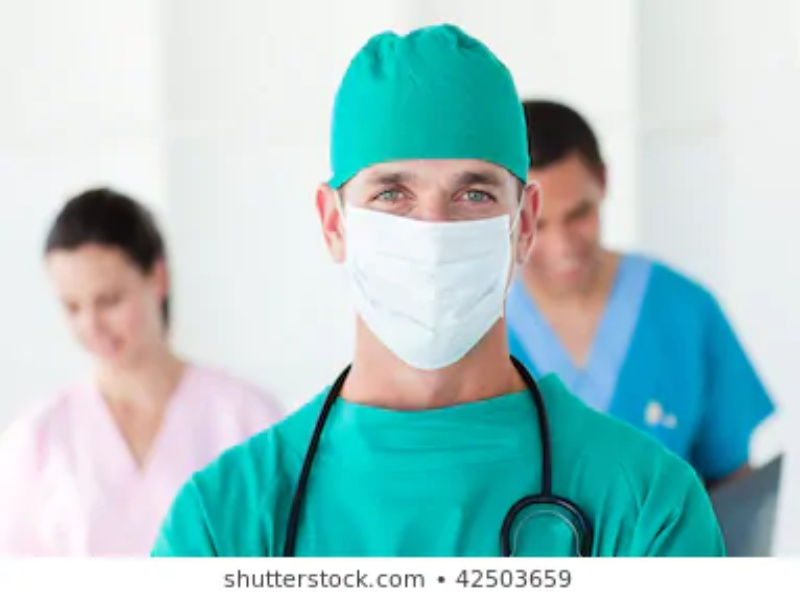ManaoArotava: (301, 43, 563, 399)
